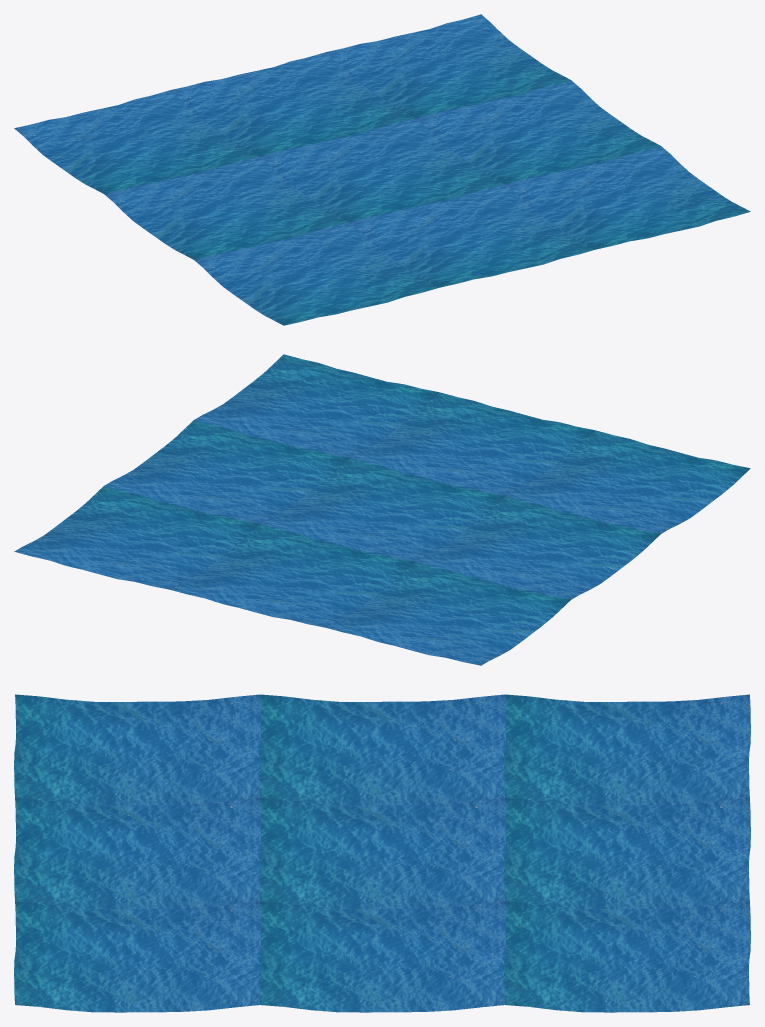
The model's file is ocean_000007.obj.
3 renders of one model, top to bottom at view 1: azimuth 30°, elevation 25°; view 2: azimuth 150°, elevation 25°; view 3: azimuth 270°, elevation 25°, orthographic. The views are drawn at different scales.
Parts seen in each view (by area): view 1: Ocean_Plan.001; view 2: Ocean_Plan.001; view 3: Ocean_Plan.001.
Part boxes in pixels (left/top/right/bottom): Ocean_Plan.001: left=14, top=14, right=750, bottom=325; Ocean_Plan.001: left=14, top=354, right=750, bottom=665; Ocean_Plan.001: left=14, top=694, right=750, bottom=1012.
Size of the model in its own units: 109135 by 1308 by 109282.
1 material, 1 textured.
